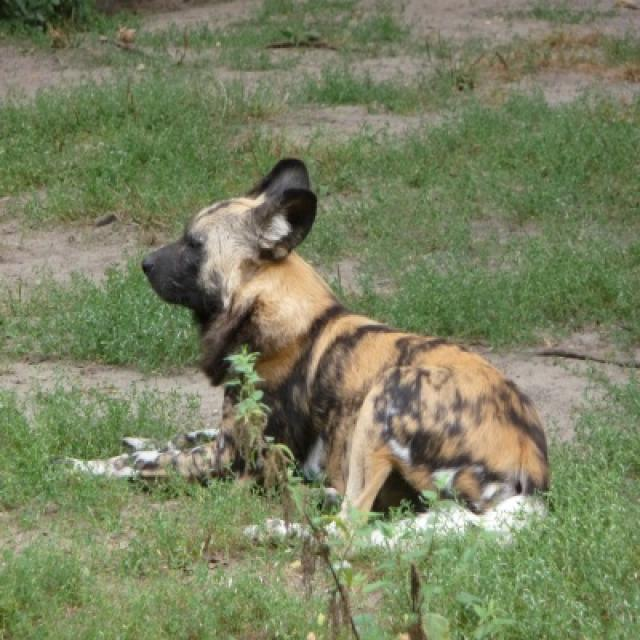hyena: (142, 160, 547, 514)
